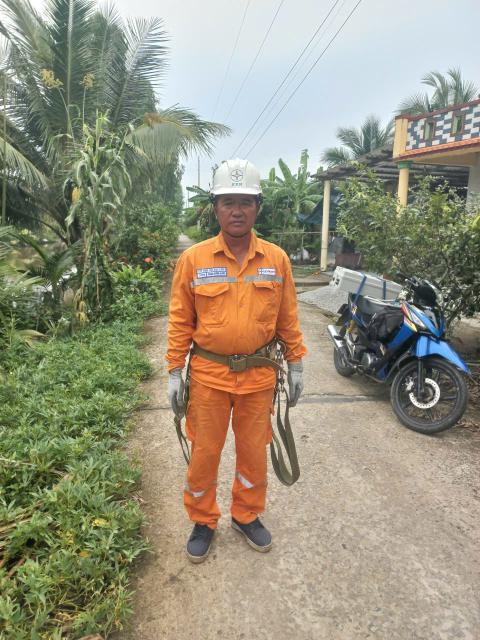gloves: (151, 366, 190, 407), (288, 360, 308, 404)
harness: (180, 333, 306, 377)
helmet: (204, 145, 275, 204)
shoes: (179, 512, 219, 565), (231, 511, 279, 552)
